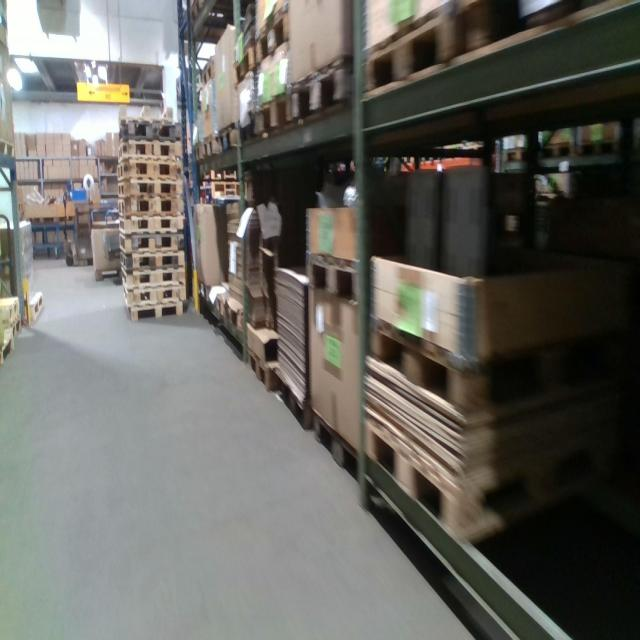pallet: (362, 412, 577, 544), (368, 310, 573, 416), (358, 11, 451, 97), (312, 403, 362, 485), (286, 56, 348, 117), (453, 2, 526, 53), (307, 252, 360, 301), (278, 372, 311, 434), (248, 351, 286, 401), (255, 86, 293, 134), (257, 6, 289, 61), (120, 247, 182, 268), (118, 140, 177, 162), (118, 196, 178, 217), (0, 315, 23, 369), (117, 161, 177, 181), (118, 178, 178, 198), (119, 232, 182, 250), (119, 123, 177, 141), (121, 268, 181, 285), (118, 216, 180, 232), (232, 40, 252, 88), (215, 123, 247, 153), (124, 303, 184, 319), (122, 286, 185, 301), (223, 299, 249, 333), (25, 282, 47, 321), (200, 134, 229, 152), (206, 294, 227, 316), (201, 59, 214, 85), (0, 139, 16, 158)
pallet_truck: (56, 186, 88, 270)
